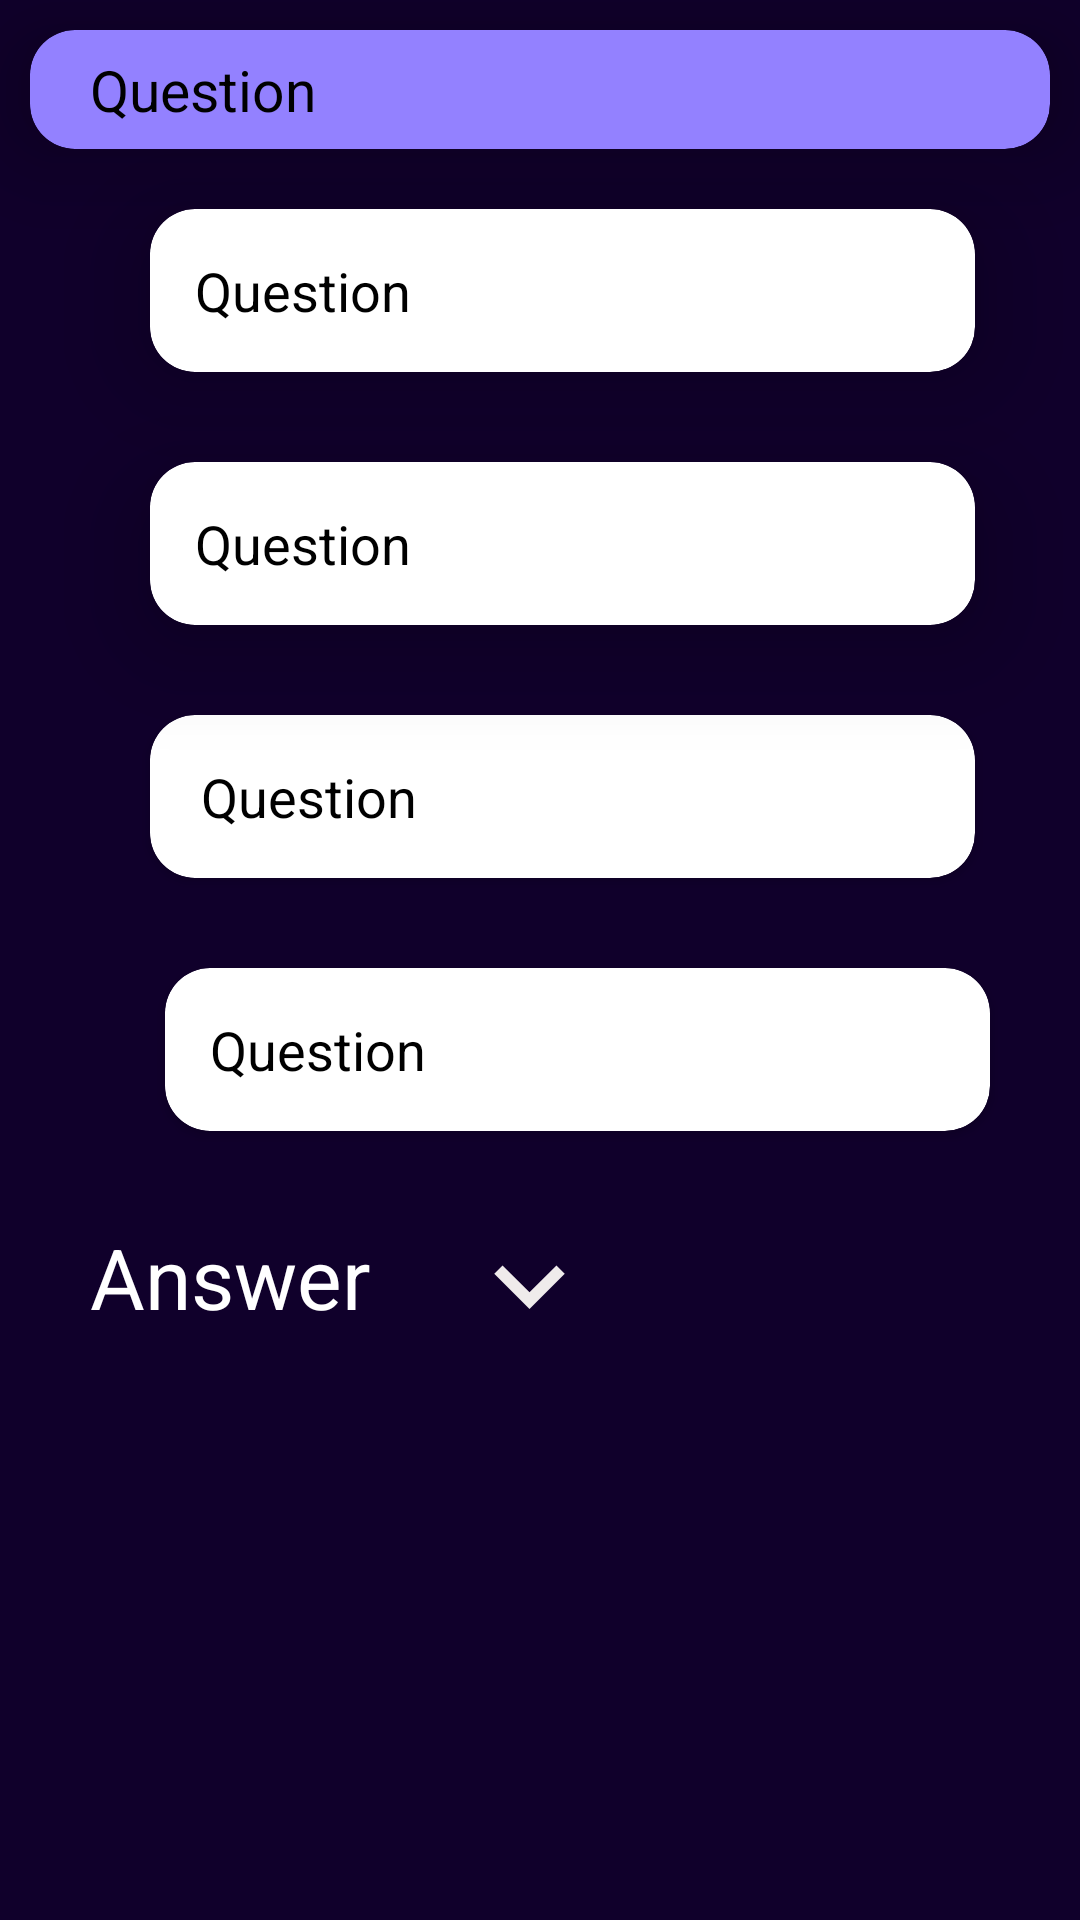

Icons on this 1080*1920 Android screen, each with the point to tap as point (x, y):
keyboard arrow down: point (529, 1287)
